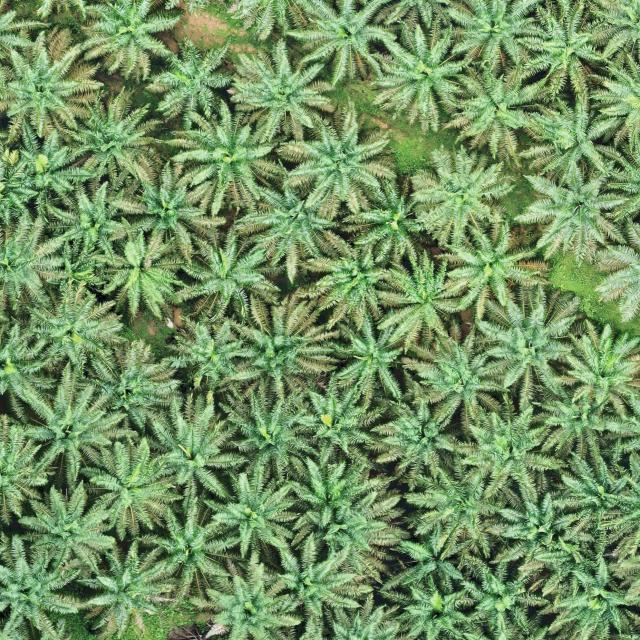Tree: (166, 103, 300, 219), (9, 369, 132, 489), (219, 285, 343, 401), (472, 284, 581, 414), (226, 170, 350, 284), (284, 101, 398, 222), (430, 208, 550, 322), (444, 402, 570, 510), (508, 153, 630, 263), (362, 24, 484, 130), (408, 140, 520, 253), (102, 153, 219, 260), (436, 59, 554, 165), (513, 82, 625, 192), (1, 35, 108, 147), (168, 220, 286, 320), (300, 224, 406, 334), (283, 0, 410, 91), (73, 532, 180, 640), (200, 458, 302, 571), (137, 492, 245, 598), (150, 398, 250, 512), (78, 432, 184, 539), (280, 490, 406, 580), (227, 41, 335, 142), (370, 382, 470, 490), (398, 459, 506, 558), (369, 248, 472, 350), (75, 332, 182, 430), (410, 324, 512, 426), (68, 78, 166, 184), (16, 477, 114, 582), (512, 0, 616, 98), (263, 528, 373, 620), (284, 369, 387, 466), (21, 278, 129, 370), (190, 553, 303, 640), (326, 308, 422, 410), (449, 549, 553, 640), (95, 213, 183, 318), (0, 531, 84, 640), (484, 487, 590, 572), (337, 168, 426, 268), (0, 204, 78, 318), (555, 323, 640, 426), (79, 0, 186, 81), (219, 380, 311, 474), (40, 174, 134, 265), (546, 550, 640, 640), (530, 376, 625, 464), (145, 37, 234, 126), (444, 0, 552, 73), (283, 452, 387, 526), (552, 446, 632, 536), (3, 118, 88, 201), (0, 409, 59, 528), (392, 517, 482, 593), (162, 312, 245, 394), (589, 214, 640, 332), (589, 366, 640, 480), (314, 589, 425, 640), (0, 313, 54, 417), (399, 570, 478, 640), (591, 48, 640, 152), (591, 451, 640, 555), (0, 0, 56, 78), (433, 609, 564, 640), (582, 0, 640, 66), (603, 137, 640, 238), (605, 530, 640, 621), (0, 619, 93, 640), (593, 602, 640, 640)
